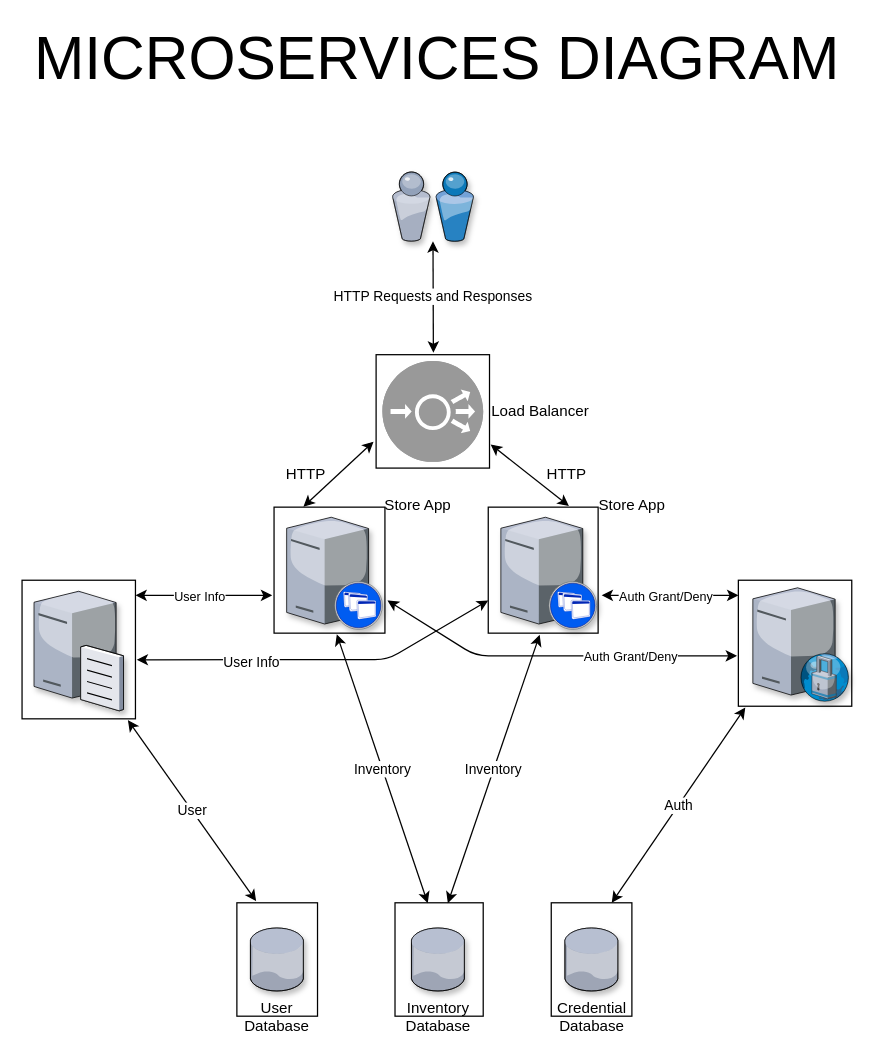
This 878x1057 diagram has some shape labels left out. The centre of each missing label's shape, as x and y in pixels:
"Auth Server" goes at [801,645].
"User Server" goes at [79,651].
"Users" goes at [433,207].
